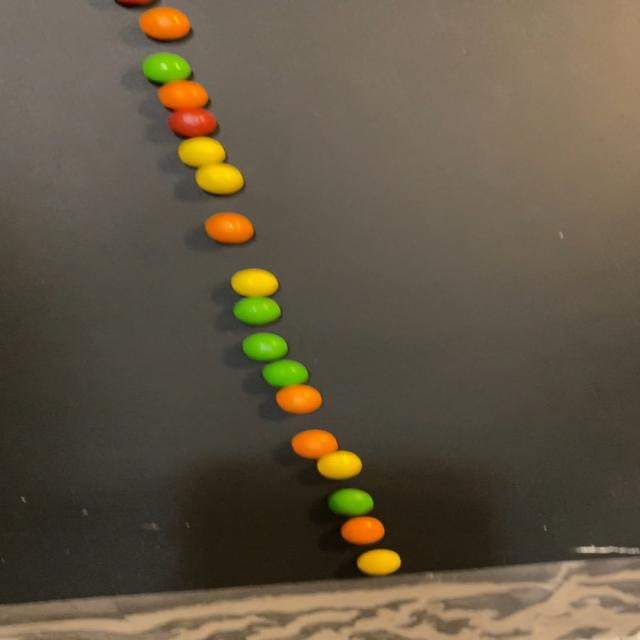smartie: (138, 6, 189, 40), (195, 162, 243, 194), (204, 212, 253, 243), (157, 79, 207, 109), (177, 136, 225, 167), (142, 52, 190, 83), (167, 107, 216, 137), (290, 430, 338, 460), (230, 268, 278, 297), (316, 451, 362, 480), (275, 385, 321, 414), (233, 298, 280, 326), (261, 360, 308, 388), (242, 333, 287, 362), (328, 489, 373, 518), (340, 517, 385, 546), (356, 550, 401, 577)
